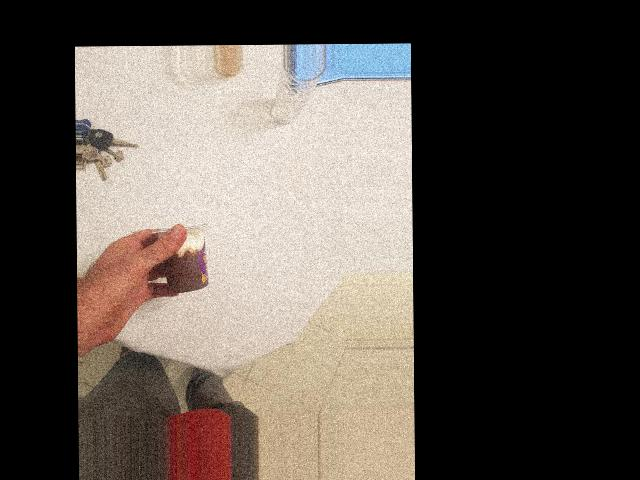milky: (232, 195, 311, 262)
